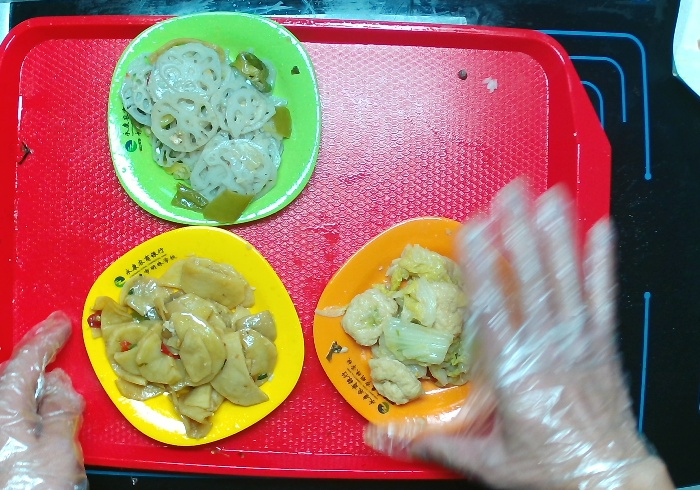YKMZ-Huang_Se_Fang_Die: (76, 227, 307, 445)
YKMZ-Ju_Se_Fang_Die: (315, 213, 459, 429)
YKMZ-Lv_Se_Fang_Die: (108, 11, 325, 225)
